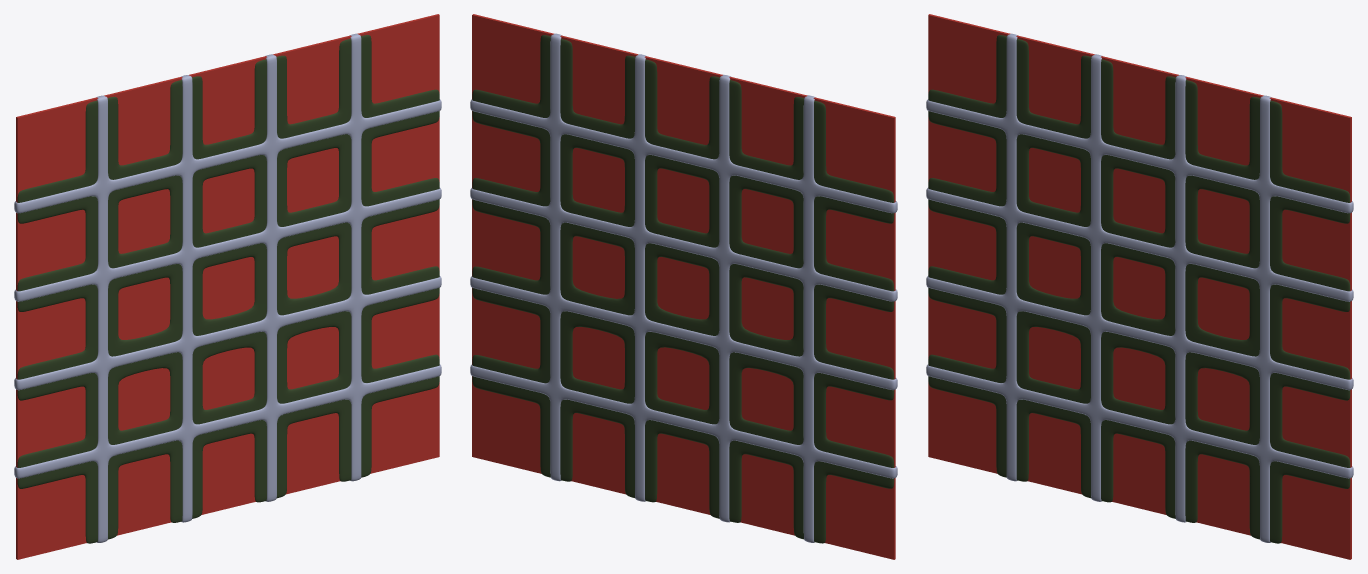
Rendered from scottish-pattern-fabric-3d-icon-102194961738.glb.
3 renders of one model, left to right at view 1: azimuth 30°, elevation 25°; view 2: azimuth 150°, elevation 25°; view 3: azimuth 330°, elevation 25°, orthographic.
Parts seen in each view (by area): view 1: Fabric, Pattern 1, Pattern 2; view 2: Fabric, Pattern 1, Pattern 2; view 3: Fabric, Pattern 1, Pattern 2.
Part boxes in pixels (bbox=[...]): Fabric: bbox=[16, 14, 439, 559]; Pattern 1: bbox=[17, 35, 439, 543]; Pattern 2: bbox=[14, 33, 441, 542]; Fabric: bbox=[472, 14, 895, 559]; Pattern 1: bbox=[472, 35, 894, 543]; Pattern 2: bbox=[470, 33, 897, 542]; Fabric: bbox=[928, 14, 1351, 559]; Pattern 1: bbox=[928, 35, 1350, 543]; Pattern 2: bbox=[926, 33, 1353, 542].
Size of the model in its own units: 1.95 by 1.95 by 0.0402.
